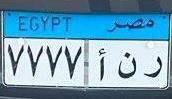7: (63, 44, 83, 80), (6, 42, 26, 78), (45, 42, 63, 78), (26, 44, 44, 78)
alif: (96, 46, 108, 83)
noon: (117, 50, 138, 81)
raa: (143, 51, 164, 82)
